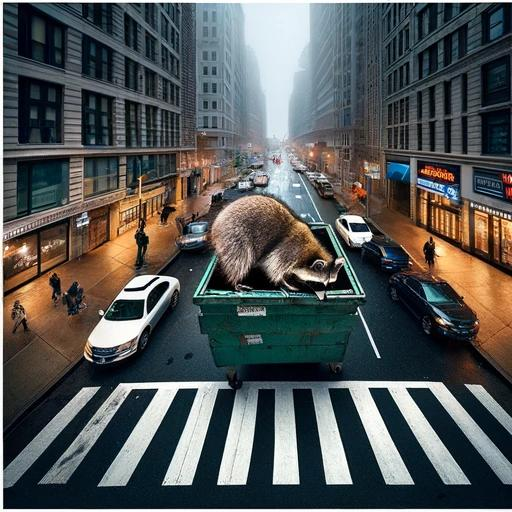raccoon: (202, 187, 348, 302)
